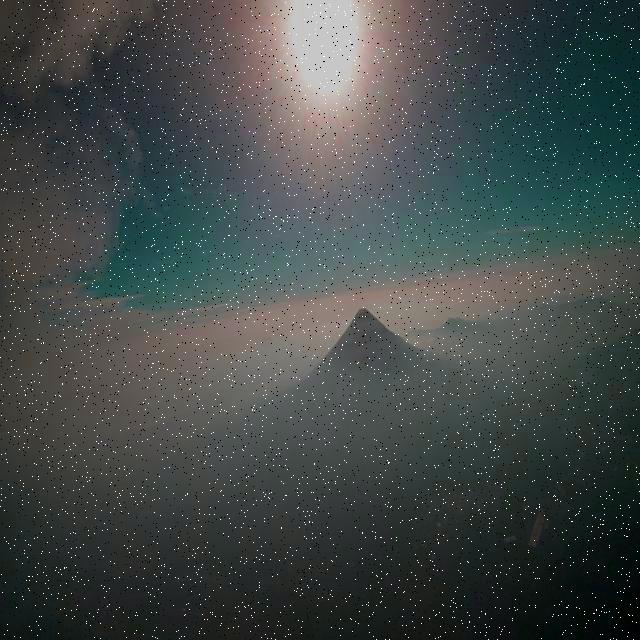Plume: (0, 0, 168, 319)
